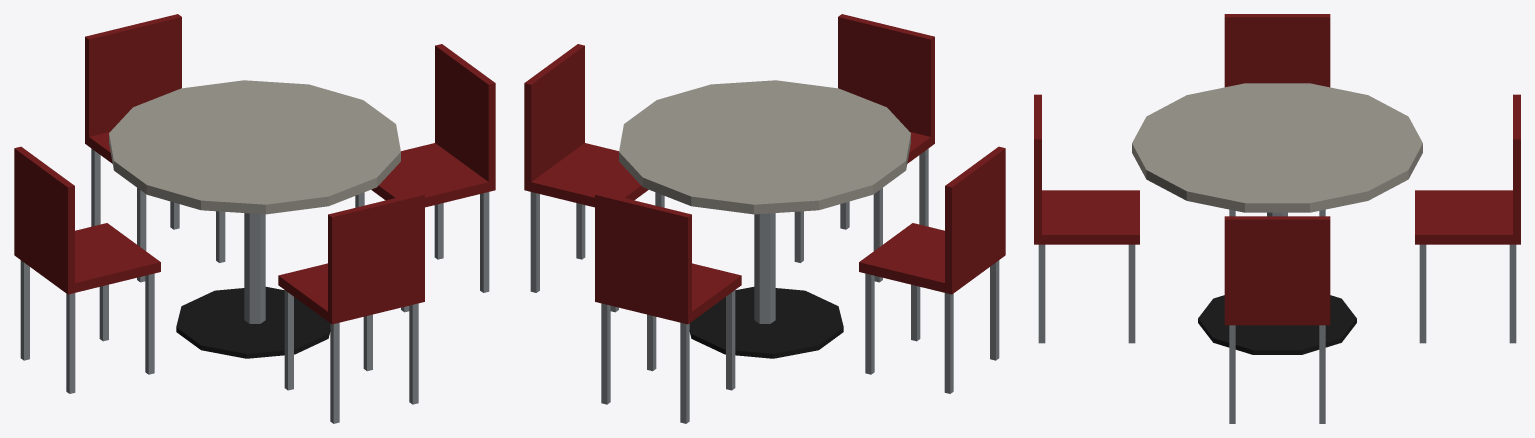
File: table_set.glb
3 views of the same model, side by side, from view 1: azimuth 30°, elevation 25°; view 2: azimuth 150°, elevation 25°; view 3: azimuth 270°, elevation 25° (orthographic).
Parts seen in each view (by area): view 1: table_set; view 2: table_set; view 3: table_set.
Part boxes in pixels (box(x1,y1,x2,y2)): table_set: box(14, 14, 495, 423); table_set: box(524, 14, 1005, 423); table_set: box(1034, 14, 1520, 423).
Size of the model in its own units: 1.84 by 0.86 by 1.84.
